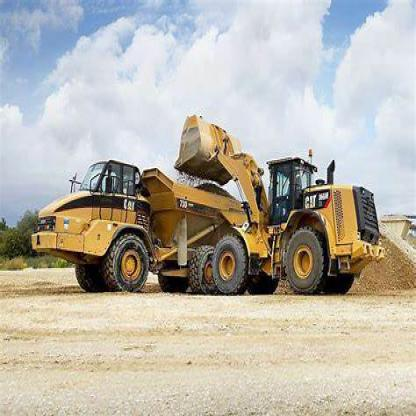bull_dozer/loader/grader: (169, 104, 388, 303)
